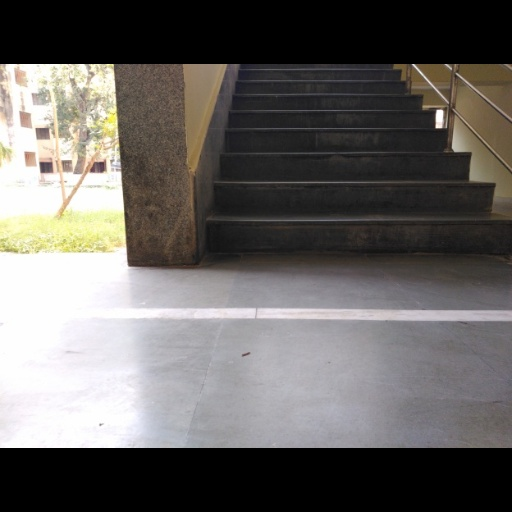Stairs: (207, 65, 512, 254)
